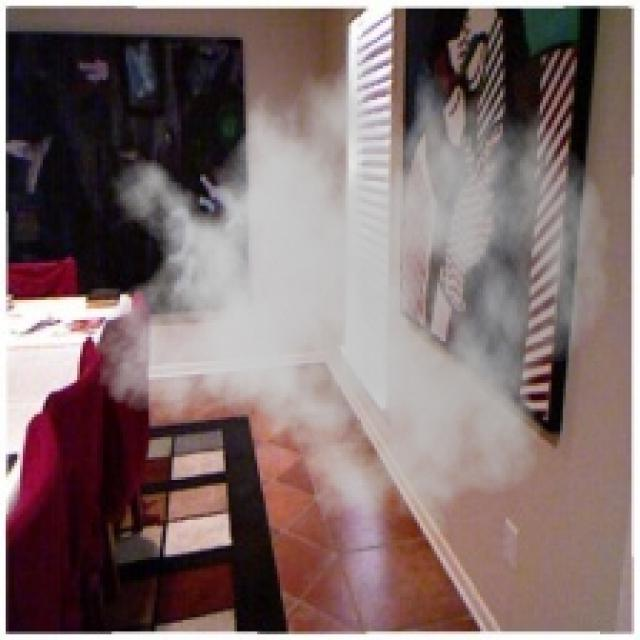smoke: (91, 14, 612, 552)
